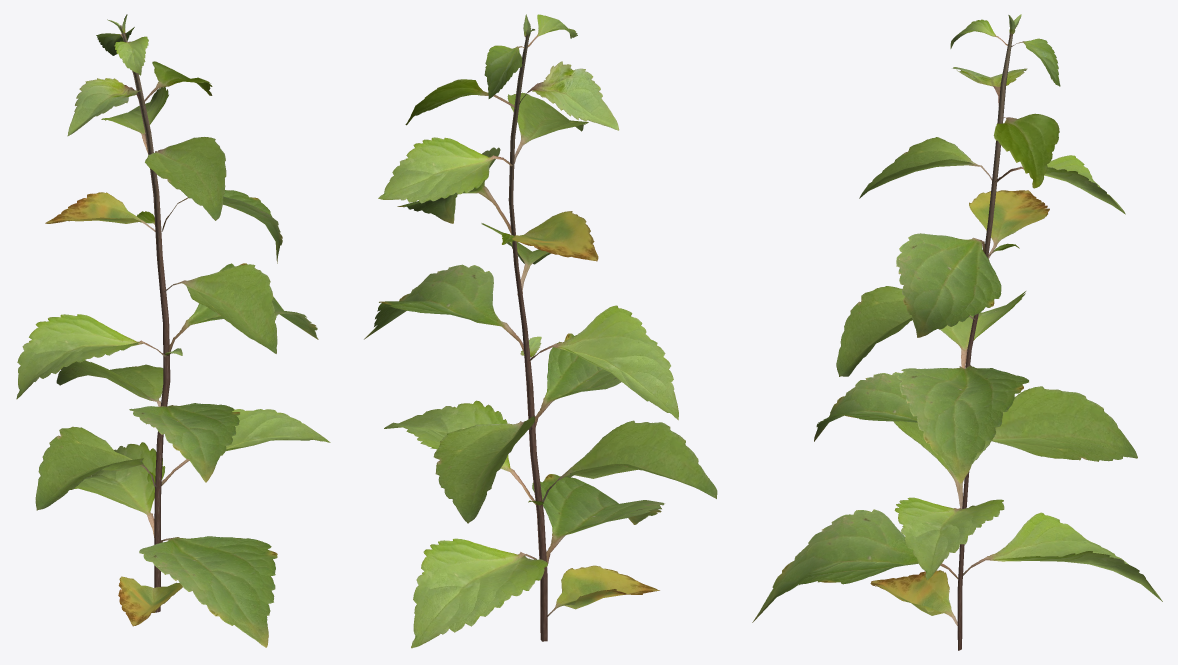
Rendered from shrub_01_c_LOD1.glb.
3 renders of one model, left to right at view 1: azimuth 30°, elevation 25°; view 2: azimuth 150°, elevation 25°; view 3: azimuth 270°, elevation 25°, orthographic. The views are drawn at different scales.
Parts seen in each view (by area): view 1: shrub_01_c_LOD1__lod0; view 2: shrub_01_c_LOD1__lod0; view 3: shrub_01_c_LOD1__lod0.
Part boxes in pixels (box(x1,y1,x2,y2)): shrub_01_c_LOD1__lod0: box(16, 14, 330, 647); shrub_01_c_LOD1__lod0: box(364, 14, 717, 648); shrub_01_c_LOD1__lod0: box(752, 14, 1162, 650).
Size of what is drawn, in the model's own units: 0.1606 by 0.2939 by 0.1751.
1 material, 1 textured.
